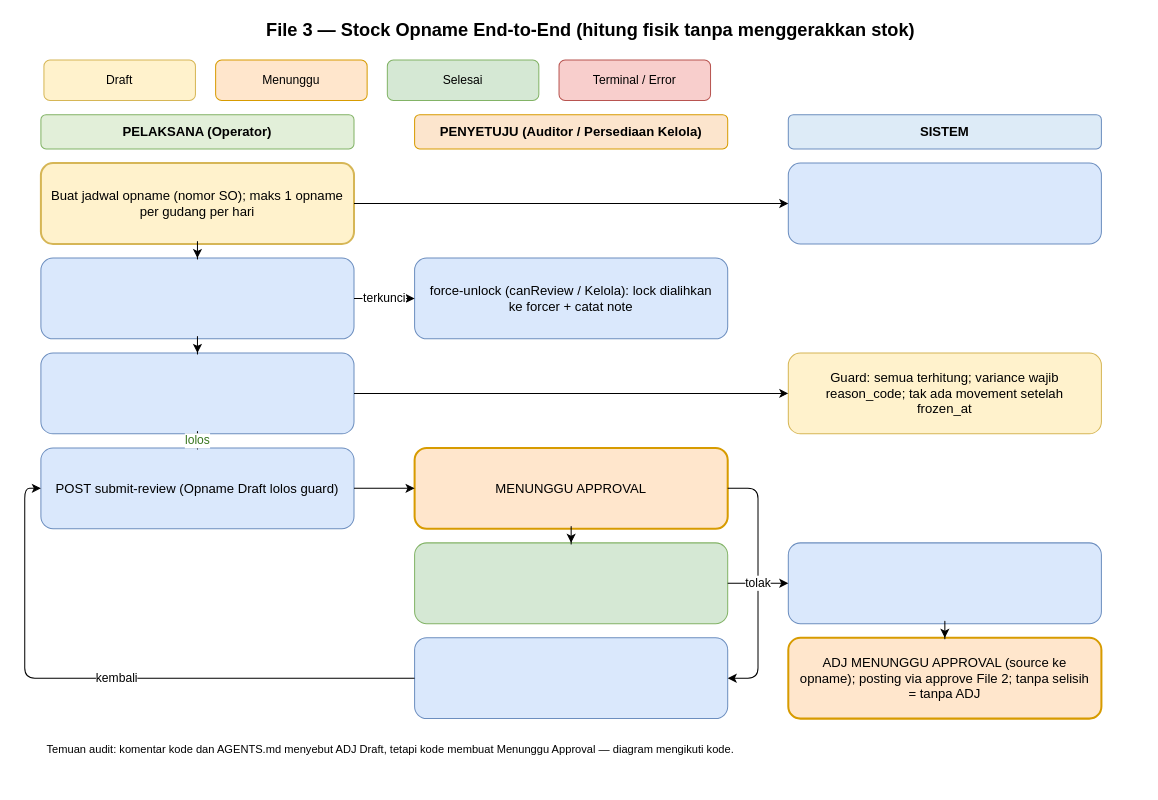
Image size: 1158x800. Some labels were removed from this diagram. The box of each missing label's shape, as (x1, y1, x2, y2) in pixels:
Input hasil hitung fisik (actual_qty): (40, 352, 354, 434)
lock + heartbeat + unlock; expiry 10 mnt; aksi user lain = 423: (40, 257, 354, 339)
POST approve-review — SoD; canReview/Kelola; posting otomatis, opname SELESAI: (414, 542, 728, 624)
POST reject-review kembali ke DRAFT (bisa diajukan ulang): (414, 637, 728, 719)
postOpname: 0 movement; bila ada selisih lahirkan ADJ: (787, 542, 1101, 624)
Snapshot server-side: system_qty + unit_cost per (item, bin): (787, 162, 1101, 244)
